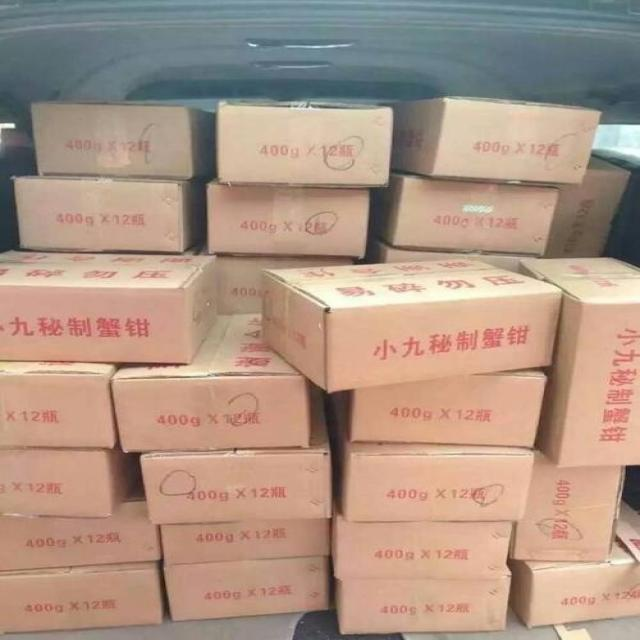box: (261, 258, 563, 392), (111, 314, 311, 454), (141, 384, 332, 525), (517, 257, 640, 468), (0, 251, 218, 363), (332, 419, 535, 521), (379, 96, 604, 184), (508, 500, 640, 628), (346, 367, 547, 447), (476, 155, 632, 257), (9, 176, 209, 255), (215, 100, 393, 188), (369, 173, 559, 254), (1, 475, 161, 570), (332, 496, 512, 580), (29, 99, 215, 178), (509, 449, 626, 562), (205, 180, 370, 259), (333, 564, 511, 635), (1, 561, 166, 633), (163, 556, 330, 622), (0, 442, 142, 517), (0, 362, 120, 449), (161, 518, 330, 565), (218, 257, 353, 314), (356, 233, 538, 273)
